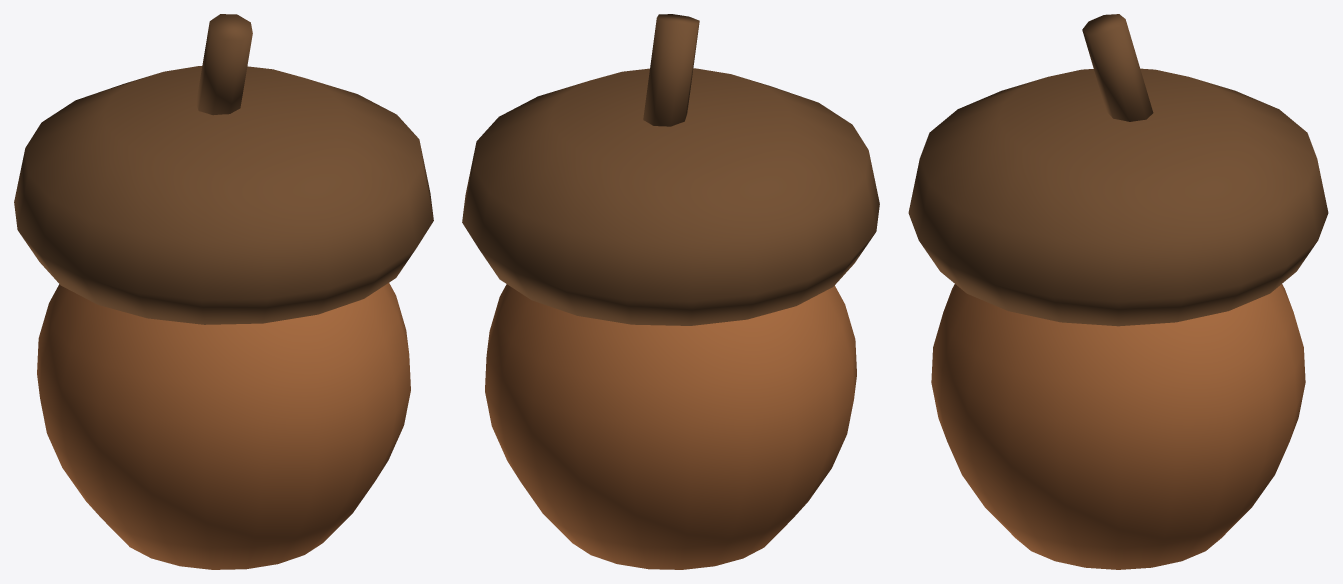
The model's file is eichel.glb.
3 views of the same model, side by side, from view 1: azimuth 30°, elevation 25°; view 2: azimuth 150°, elevation 25°; view 3: azimuth 270°, elevation 25° (orthographic).
Parts seen in each view (by area): view 1: eichel-matt, eichel-lack; view 2: eichel-matt, eichel-lack; view 3: eichel-matt, eichel-lack.
Boxes of the visible parts, x1,y1,x2,y2 form: eichel-matt: [14, 14, 433, 324]; eichel-lack: [37, 283, 410, 569]; eichel-matt: [462, 14, 879, 325]; eichel-lack: [485, 284, 856, 569]; eichel-matt: [908, 14, 1328, 326]; eichel-lack: [931, 284, 1305, 569].
Bounding box in the file's own units: 0.2688 × 0.3817 × 0.2688.
